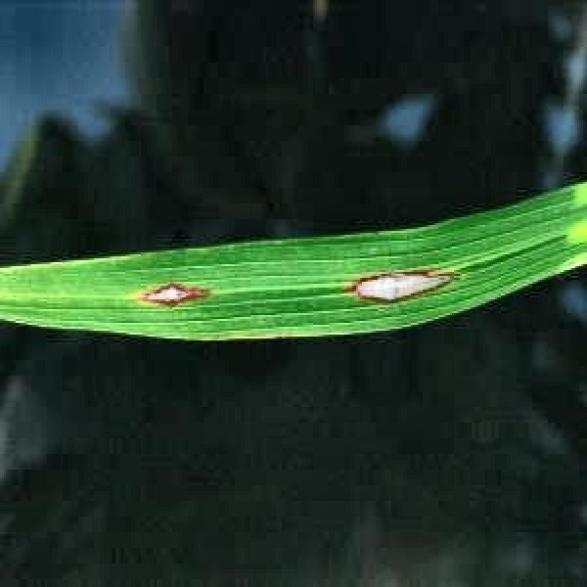Leaf_smut: (336, 248, 460, 304), (127, 268, 213, 313)
